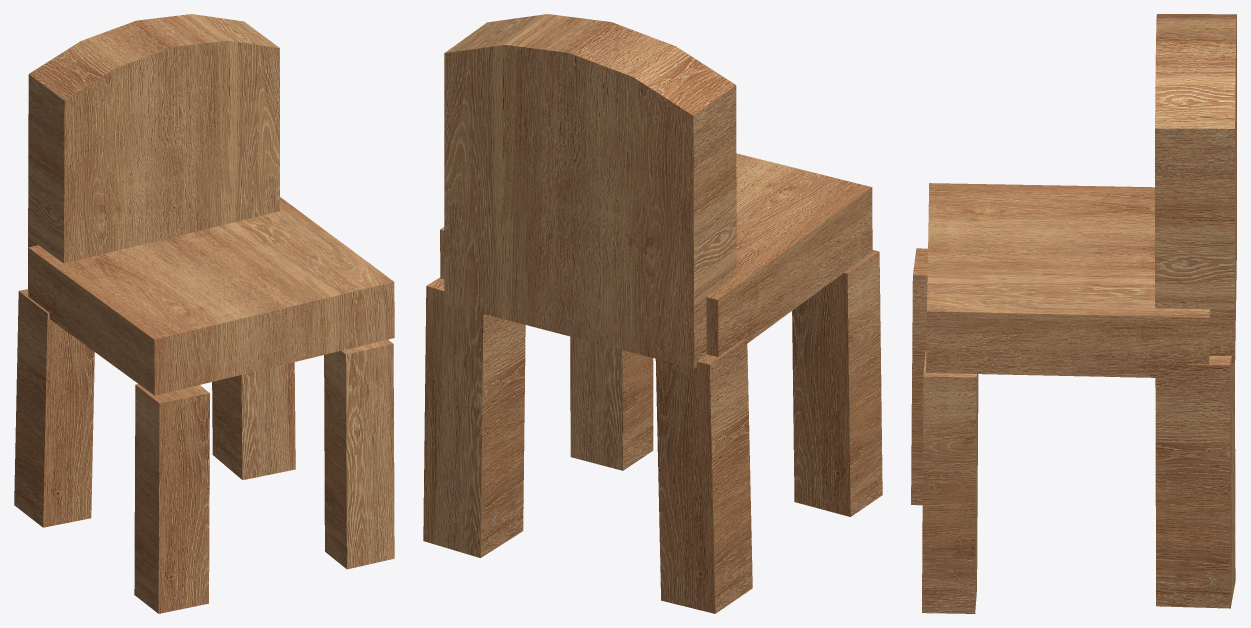
File: 43477_ours.glb
The picture shows the model from 3 angles, left to right: view 1: azimuth 30°, elevation 25°; view 2: azimuth 150°, elevation 25°; view 3: azimuth 270°, elevation 25°; orthographic projection. The views are drawn at different scales.
Parts seen in each view (by area): view 1: ParentEmpty; view 2: ParentEmpty; view 3: ParentEmpty.
Part boxes in pixels (left/top/right/bottom): ParentEmpty: left=14, top=14, right=394, bottom=613; ParentEmpty: left=423, top=14, right=882, bottom=613; ParentEmpty: left=911, top=14, right=1236, bottom=613.
Bounding box in the file's own units: 0.5728 × 1 × 0.5797.
Materials: 1 (1 with a texture image).
